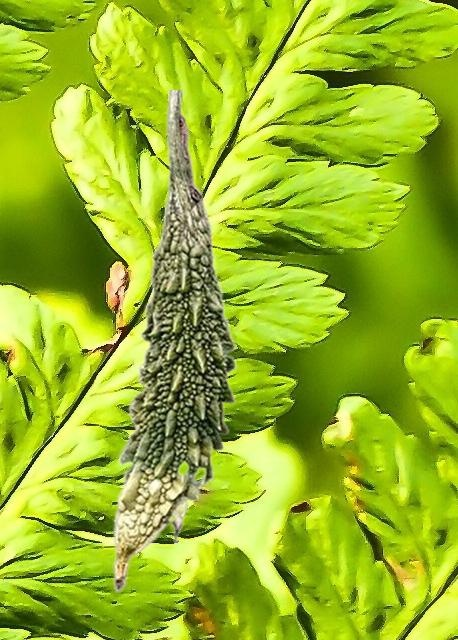ampalaya: (112, 90, 237, 593)
